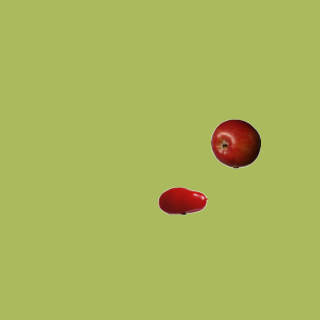Apple Braeburn: (210, 118, 260, 168)
Tomato 2: (157, 175, 207, 225)
